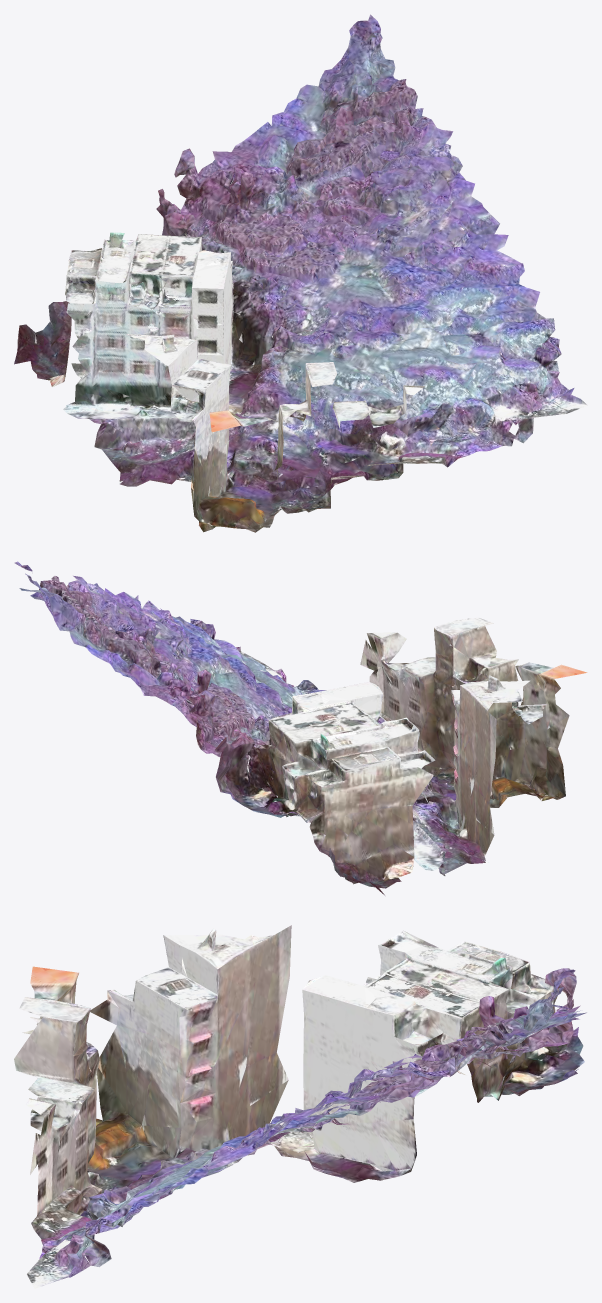
File: Tile_+012_+019_L19_000010.glb
3 views of the same model, one above another, from view 1: azimuth 30°, elevation 25°; view 2: azimuth 150°, elevation 25°; view 3: azimuth 270°, elevation 25° (orthographic). The views are drawn at different scales.
Parts seen in each view (by area): view 1: rtc; view 2: rtc; view 3: rtc.
Boxes of the visible parts, left/top/right/bottom form: rtc: left=14, top=14, right=587, bottom=532; rtc: left=14, top=561, right=587, bottom=895; rtc: left=14, top=925, right=586, bottom=1288.
Bounding box in the file's own units: 55.6 × 40.84 × 54.95.
Materials: 1 (1 with a texture image).
